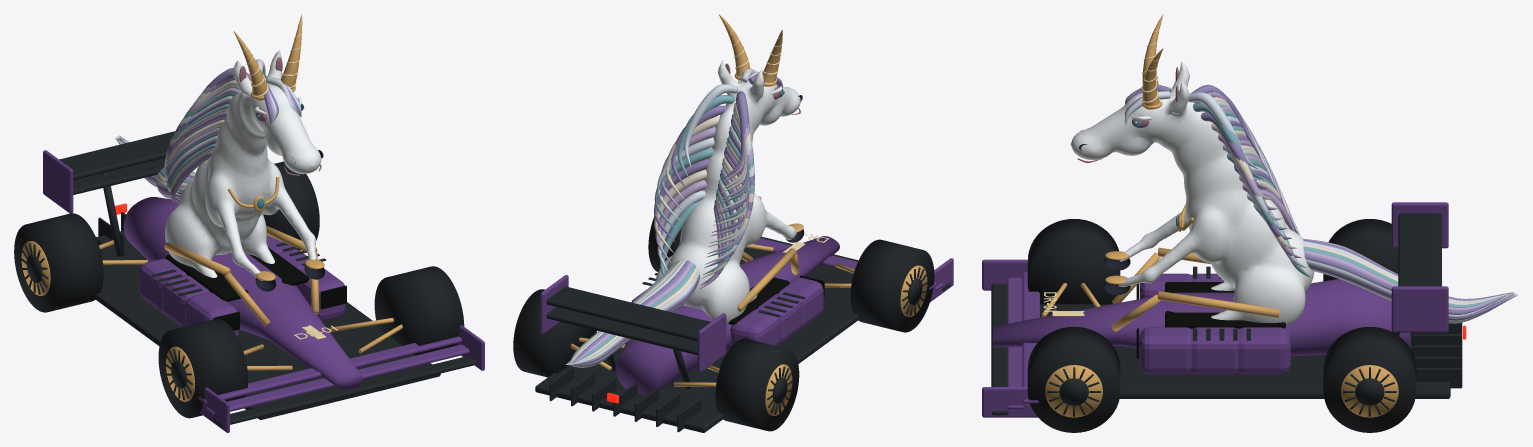
3 renders of one model, left to right at view 1: azimuth 30°, elevation 25°; view 2: azimuth 150°, elevation 25°; view 3: azimuth 270°, elevation 25°, orthographic. The views are drawn at different scales.
Parts seen in each view (by area): view 1: DINORACE_CAR_AURELIA_MIDNIGHT_VIOLET, DINORACE_CAR_DR_CARBON, DINORACE_SKULL_AND_COAT, DINORACE_WHEEL_RL_TYRE, DINORACE_DRIVER, DINORACE_WHEEL_FR_TYRE, DINORACE_WHEEL_FL_TYRE, DINORACE_CAR_AURELIA_CHAMPAGNE_GOLD, DINORACE_CAR_DR_PUPIL, DINORACE_WHEEL_RR_TYRE, DINORACE_WHEEL_FL_RIM, DINORACE_WHEEL_RL_RIM (+6 smaller); view 2: DINORACE_CAR_DR_CARBON, DINORACE_DRIVER, DINORACE_CAR_AURELIA_MIDNIGHT_VIOLET, DINORACE_SKULL_AND_COAT, DINORACE_WHEEL_RL_TYRE, DINORACE_WHEEL_FL_TYRE, DINORACE_WHEEL_RR_TYRE, DINORACE_CAR_AURELIA_CHAMPAGNE_GOLD, DINORACE_CAR_DR_PUPIL, DINORACE_WHEEL_FL_RIM, DINORACE_WHEEL_RL_RIM, DINORACE_WHEEL_FL_DR_CARBON (+4 smaller); view 3: DINORACE_CAR_AURELIA_MIDNIGHT_VIOLET, DINORACE_SKULL_AND_COAT, DINORACE_CAR_DR_CARBON, DINORACE_DRIVER, DINORACE_WHEEL_FL_TYRE, DINORACE_WHEEL_RR_TYRE, DINORACE_WHEEL_FR_TYRE, DINORACE_CAR_AURELIA_CHAMPAGNE_GOLD, DINORACE_WHEEL_RL_TYRE, DINORACE_CAR_DR_PUPIL, DINORACE_WHEEL_FR_RIM, DINORACE_WHEEL_RR_RIM (+5 smaller).
Boxes of the visible parts, box(x1,y1,x2,y2) form: DINORACE_CAR_AURELIA_MIDNIGHT_VIOLET: box(43, 150, 484, 432); DINORACE_CAR_DR_CARBON: box(59, 131, 476, 426); DINORACE_SKULL_AND_COAT: box(165, 50, 321, 280); DINORACE_WHEEL_RL_TYRE: box(14, 213, 103, 312); DINORACE_DRIVER: box(115, 59, 301, 203); DINORACE_WHEEL_FR_TYRE: box(374, 266, 464, 355); DINORACE_WHEEL_FL_TYRE: box(158, 319, 248, 418); DINORACE_CAR_AURELIA_CHAMPAGNE_GOLD: box(99, 225, 402, 370); DINORACE_CAR_DR_PUPIL: box(165, 247, 346, 330); DINORACE_WHEEL_RR_TYRE: box(263, 161, 319, 250); DINORACE_WHEEL_FL_RIM: box(166, 346, 194, 401); DINORACE_WHEEL_RL_RIM: box(21, 241, 50, 295); DINORACE_CAR_DR_CARBON: box(535, 236, 950, 432); DINORACE_DRIVER: box(566, 68, 782, 367); DINORACE_CAR_AURELIA_MIDNIGHT_VIOLET: box(540, 236, 953, 395); DINORACE_SKULL_AND_COAT: box(655, 60, 800, 324); DINORACE_WHEEL_RL_TYRE: box(715, 338, 799, 431); DINORACE_WHEEL_FL_TYRE: box(850, 239, 934, 332); DINORACE_WHEEL_RR_TYRE: box(513, 289, 596, 377); DINORACE_CAR_AURELIA_CHAMPAGNE_GOLD: box(570, 244, 854, 386); DINORACE_CAR_DR_PUPIL: box(728, 275, 824, 324); DINORACE_WHEEL_FL_RIM: box(900, 265, 927, 316); DINORACE_WHEEL_RL_RIM: box(765, 364, 792, 415); DINORACE_WHEEL_FL_DR_CARBON: box(902, 267, 927, 315); DINORACE_CAR_AURELIA_MIDNIGHT_VIOLET: box(982, 202, 1448, 417); DINORACE_SKULL_AND_COAT: box(1070, 61, 1314, 325); DINORACE_CAR_DR_CARBON: box(991, 213, 1462, 415); DINORACE_DRIVER: box(1125, 84, 1518, 323); DINORACE_WHEEL_FL_TYRE: box(1027, 219, 1120, 304); DINORACE_WHEEL_RR_TYRE: box(1323, 326, 1416, 432); DINORACE_WHEEL_FR_TYRE: box(1027, 326, 1120, 432); DINORACE_CAR_AURELIA_CHAMPAGNE_GOLD: box(1041, 247, 1279, 331); DINORACE_WHEEL_RL_TYRE: box(1323, 219, 1398, 281); DINORACE_CAR_DR_PUPIL: box(1136, 282, 1285, 358); DINORACE_WHEEL_FR_RIM: box(1045, 365, 1102, 417); DINORACE_WHEEL_RR_RIM: box(1341, 365, 1398, 417).
Size of what is drawn, in the model's own units: 4.68 by 5.53 by 7.99.
